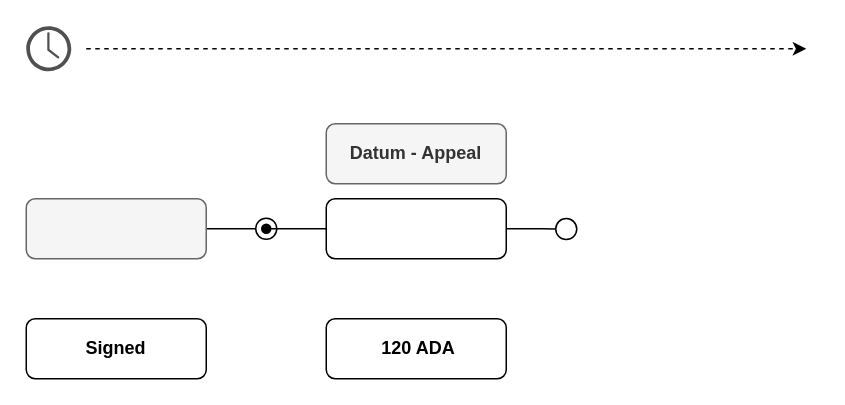
This 845x405 diagram has some shape labels left out. The centre of each missing label's shape, as x and y in pixels:
"Buyer or Seller" belongs at point 115,228.
"Plutus V3" belongs at point 415,228.
